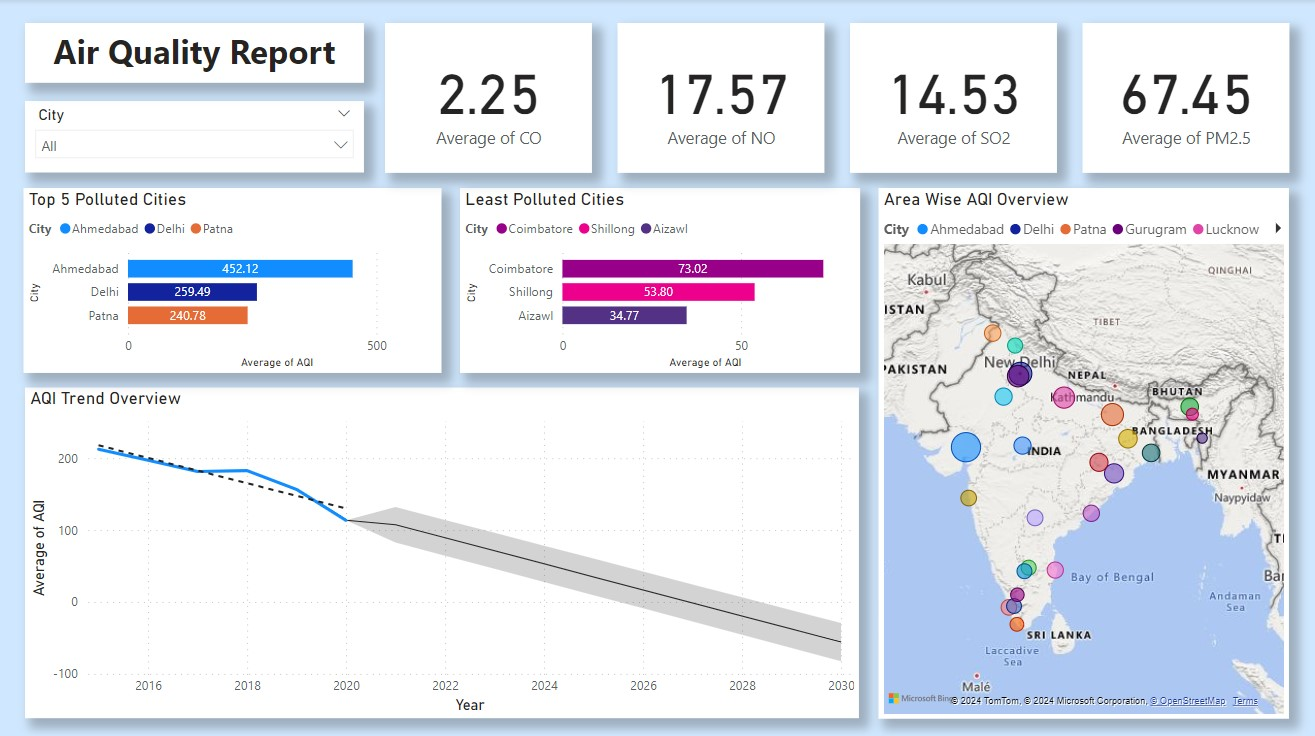

The dashboard page shown, as its layout file describes it:
{"tool":"powerbi","page":{"name":"Page 1","canvas":[1280,720],"ordinal":0},"visuals":[{"type":"lineChart","title":"AQI Trend Overview","fields":{"Category":["city_day.Date.Variation.Date Hierarchy.Year","city_day.Date.Variation.Date Hierarchy.Quarter","city_day.Date.Variation.Date Hierarchy.Month","city_day.Date.Variation.Date Hierarchy.Day"],"Y":["Avg(city_day.AQI)"]},"box":[25.9,377,809,320.4],"z":0},{"type":"slicer","fields":{"Values":["city_day.City"]},"box":[25.9,98.7,328.4,69.6],"z":1000},{"type":"barChart","title":"Top 5 Polluted Cities","fields":{"Category":["city_day.City"],"Y":["Avg(city_day.AQI)"],"Series":["city_day.City"]},"box":[25.4,183.1,405.1,179.7],"z":2000},{"type":"barChart","title":"Least Polluted Cities","fields":{"Category":["city_day.City"],"Y":["Avg(city_day.AQI)"],"Series":["city_day.City"]},"box":[447.5,183.1,388.1,179.7],"z":3000},{"type":"card","fields":{"Values":["Avg(city_day.CO)"]},"box":[375.4,22.7,200.6,145.6],"z":4000},{"type":"card","fields":{"Values":["Avg(city_day.NO)"]},"box":[600.8,22.7,200.6,145.6],"z":5000},{"type":"card","fields":{"Values":["Avg(city_day.SO2)"]},"box":[826.2,22.7,200.6,145.6],"z":6000},{"type":"card","fields":{"Values":["Avg(city_day.PM2.5)"]},"box":[1051.7,22.7,200.6,145.6],"z":7000},{"type":"map","title":"Area Wise AQI Overview","fields":{"Category":["city_day.City"],"Size":["Avg(city_day.AQI)"],"Series":["city_day.City"]},"box":[854.3,182.8,398,514.5],"z":8000},{"type":"textbox","box":[25.9,22.7,328.4,58.2],"z":9000}]}

Visuals, with their boxes in screenshot pixels (x1, y1, x2, y2), scaled from the page's 1280x720 canvas onto the 1315x736 screenshot:
"AQI Trend Overview" lineChart: detection(27, 385, 858, 713)
slicer - city_day.City: detection(27, 101, 364, 172)
"Top 5 Polluted Cities" barChart: detection(26, 187, 442, 371)
"Least Polluted Cities" barChart: detection(460, 187, 858, 371)
card - Avg(city_day.CO): detection(386, 23, 592, 172)
card - Avg(city_day.NO): detection(617, 23, 823, 172)
card - Avg(city_day.SO2): detection(849, 23, 1055, 172)
card - Avg(city_day.PM2.5): detection(1080, 23, 1287, 172)
"Area Wise AQI Overview" map: detection(878, 187, 1287, 713)
textbox: detection(27, 23, 364, 83)
